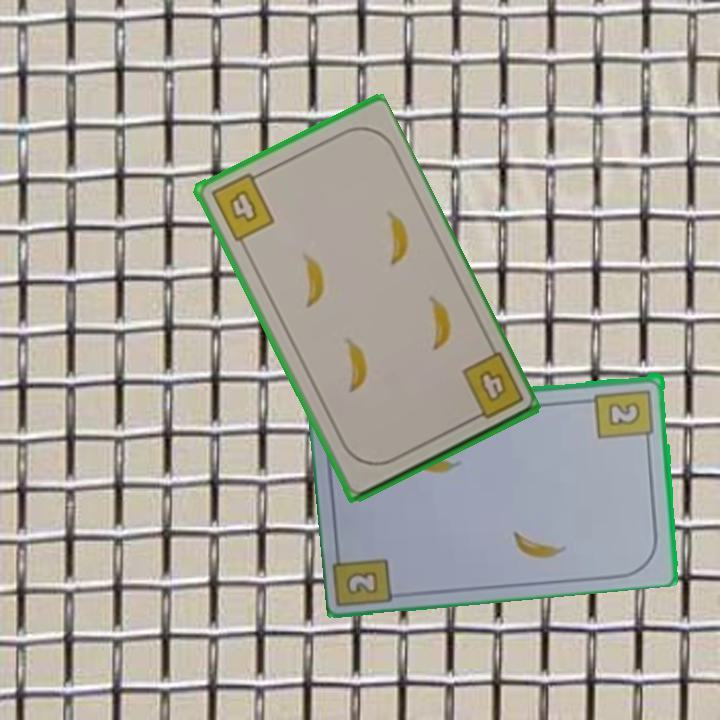2b: (592, 385, 657, 447), (342, 567, 382, 598)
4b: (207, 168, 278, 245), (457, 349, 527, 425)
